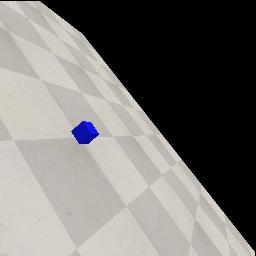box: (71, 121, 99, 144)
